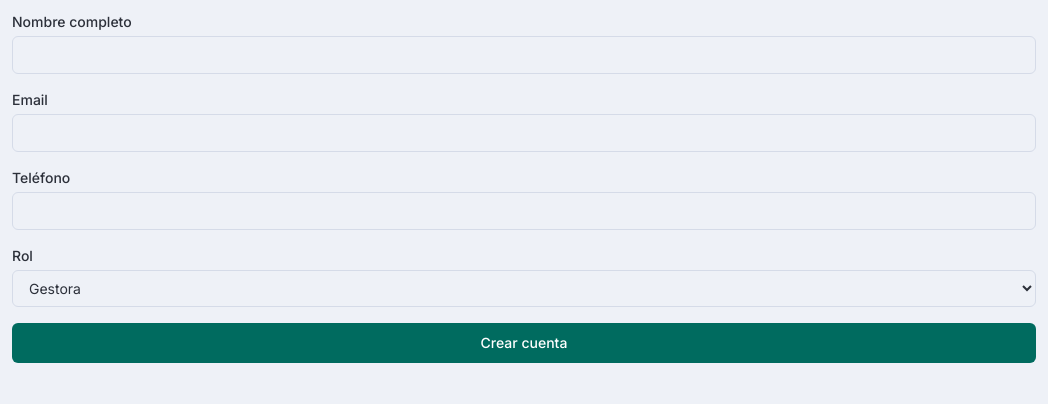
Test: CreateUserForm (R4.1, R4.2, R4.3, R4.5, design D5, D6) › attributes a 409 (email already in use) to the email field
This screenshot has width=1048, height=404.
Type "Persona Nueva" into the field labelled "Nombre completo".
click(524, 55); type("Persona Nueva")  # box [12, 36, 1036, 74]
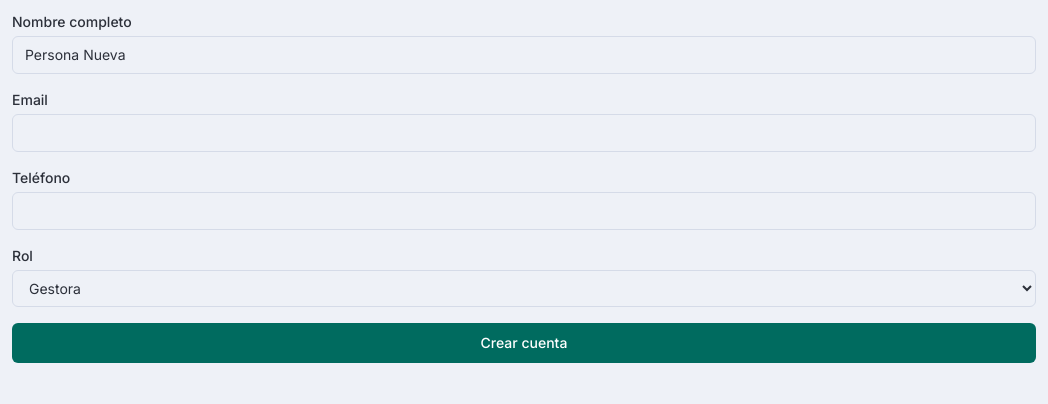
Type "new@example.com" into the field labelled "Email".
click(524, 133); type("new@example.com")  # box [12, 114, 1036, 152]
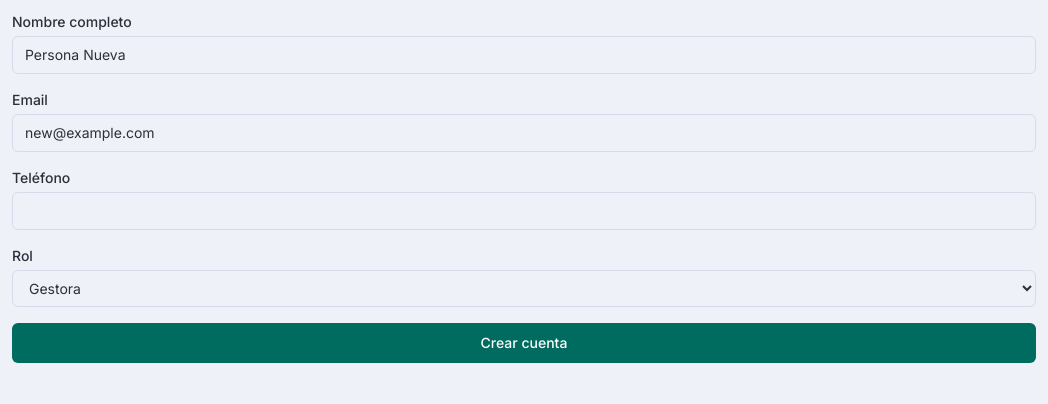
Click the button "Crear cuenta".
click(524, 343)  # box [12, 323, 1036, 363]
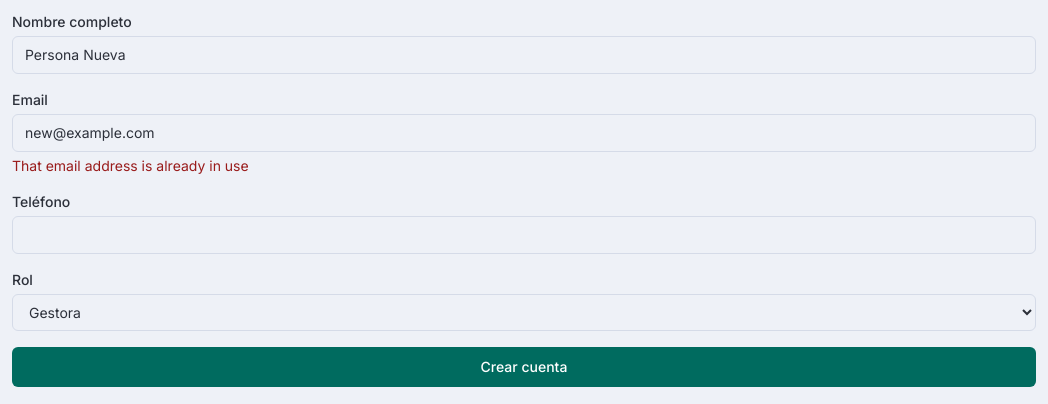
Check: the text "That email address is already in use" is shown, box [12, 157, 249, 174]
